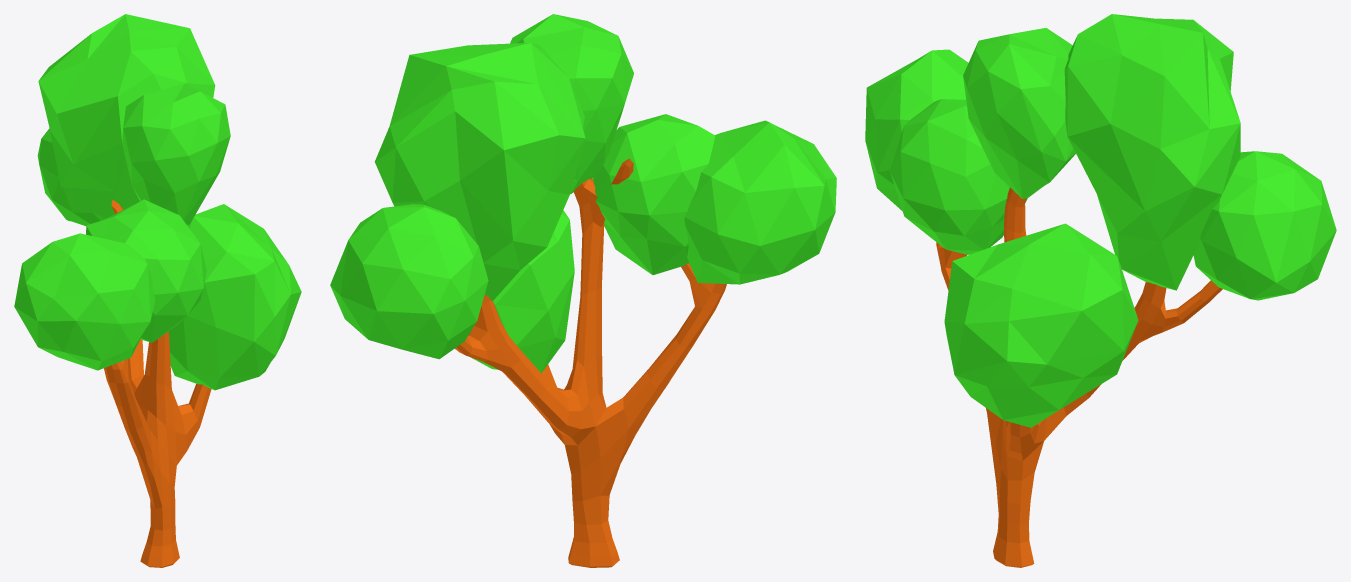
File: tree_3.gltf
The picture shows the model from 3 angles, left to right: view 1: azimuth 30°, elevation 25°; view 2: azimuth 150°, elevation 25°; view 3: azimuth 270°, elevation 25°; orthographic projection. The views are drawn at different scales.
Parts seen in each view (by area): view 1: Leaves, Tree_3; view 2: Leaves, Tree_3; view 3: Leaves, Tree_3.
Boxes of the visible parts, <box> form: Leaves: <box>14,14,301,390</box>; Tree_3: <box>104,200,211,567</box>; Leaves: <box>330,14,836,373</box>; Tree_3: <box>455,158,726,567</box>; Leaves: <box>865,14,1336,427</box>; Tree_3: <box>936,187,1222,567</box>.
Size of the model in its own units: 752 by 1116 by 864.
